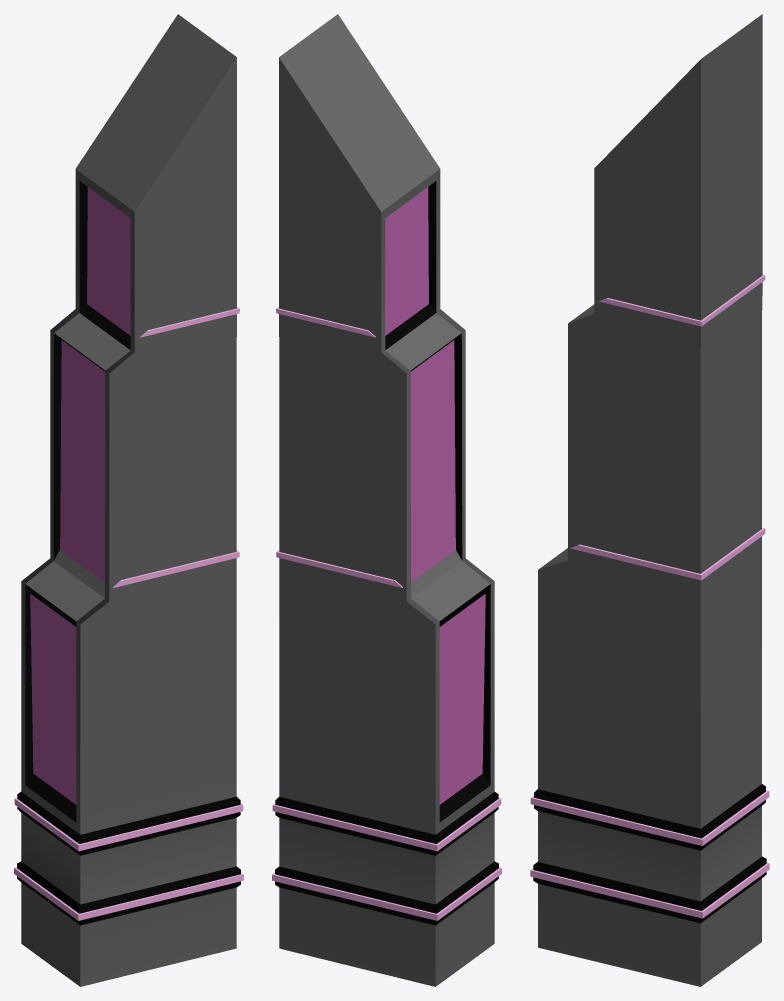
File: SM_Environment_Buildings_Tall_03.fbx
The picture shows the model from 3 angles, left to right: view 1: azimuth 30°, elevation 25°; view 2: azimuth 150°, elevation 25°; view 3: azimuth 330°, elevation 25°; orthographic projection. The views are drawn at different scales.
Parts seen in each view (by area): view 1: SM_Environment_Buildings_Tall_03, Lights; view 2: SM_Environment_Buildings_Tall_03, Lights; view 3: SM_Environment_Buildings_Tall_03, Lights.
Boxes of the visible parts, left/top/right/bottom form: SM_Environment_Buildings_Tall_03: left=17, top=14, right=240, bottom=986; Lights: left=14, top=307, right=243, bottom=920; SM_Environment_Buildings_Tall_03: left=275, top=14, right=498, bottom=986; Lights: left=272, top=307, right=501, bottom=920; SM_Environment_Buildings_Tall_03: left=533, top=14, right=766, bottom=986; Lights: left=530, top=274, right=769, bottom=918.
Size of the model in its own units: 9.7 by 49.95 by 6.54.
